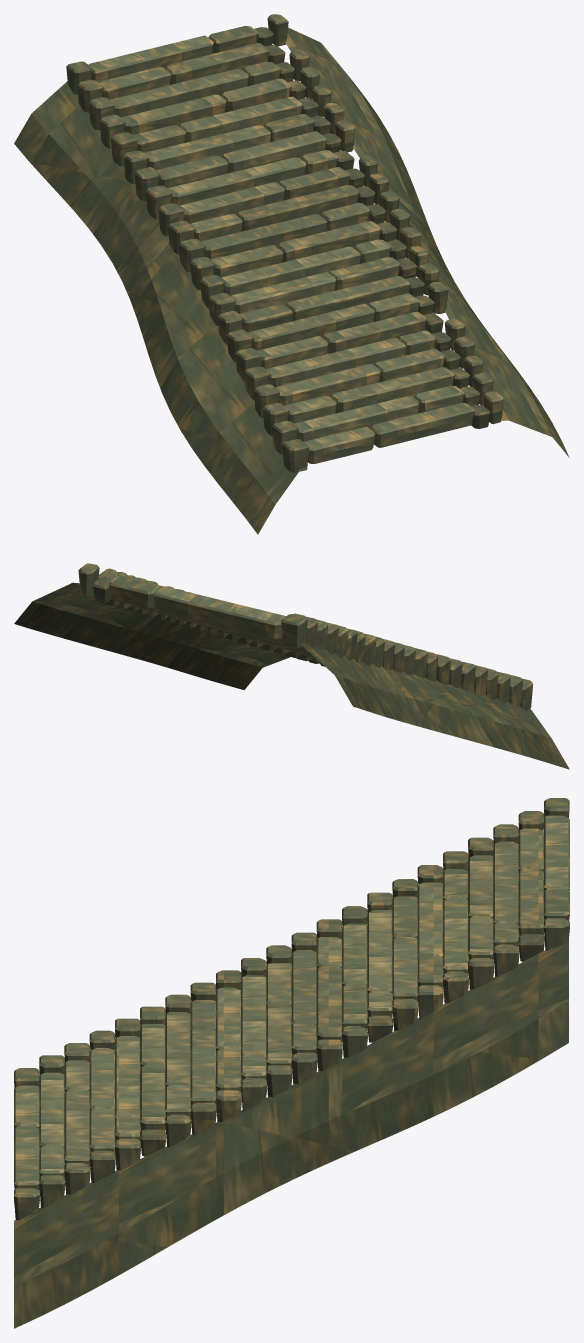
The model's file is gate-ascent.glb.
3 views of the same model, one above another, from view 1: azimuth 30°, elevation 25°; view 2: azimuth 150°, elevation 25°; view 3: azimuth 270°, elevation 25° (orthographic). The views are drawn at different scales.
Visible parts, largest first — view 1: Gate ascent and outlet stones; view 2: Gate ascent and outlet stones; view 3: Gate ascent and outlet stones.
Part boxes in pixels (x1,y1,x2,y2): Gate ascent and outlet stones: [14, 14, 569, 534]; Gate ascent and outlet stones: [14, 563, 569, 769]; Gate ascent and outlet stones: [14, 798, 569, 1328].
Bounding box in the file's own units: 6.11 × 5.18 × 7.16.
1 material, 1 textured.
